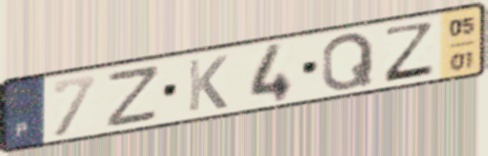4: (246, 39, 297, 105)
7: (51, 71, 101, 139)
K: (186, 53, 231, 115)
Q: (318, 30, 376, 94)
Z: (102, 62, 163, 130), (381, 20, 437, 85)
